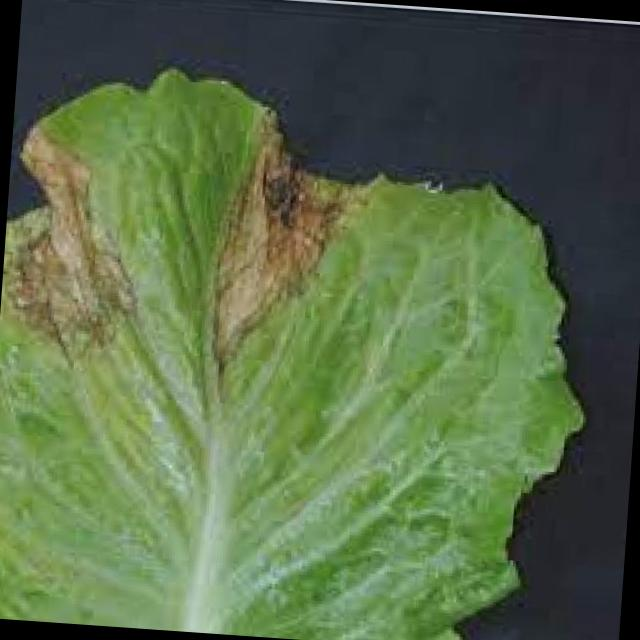Downy_Mildew: (0, 131, 155, 385), (203, 118, 350, 373)
